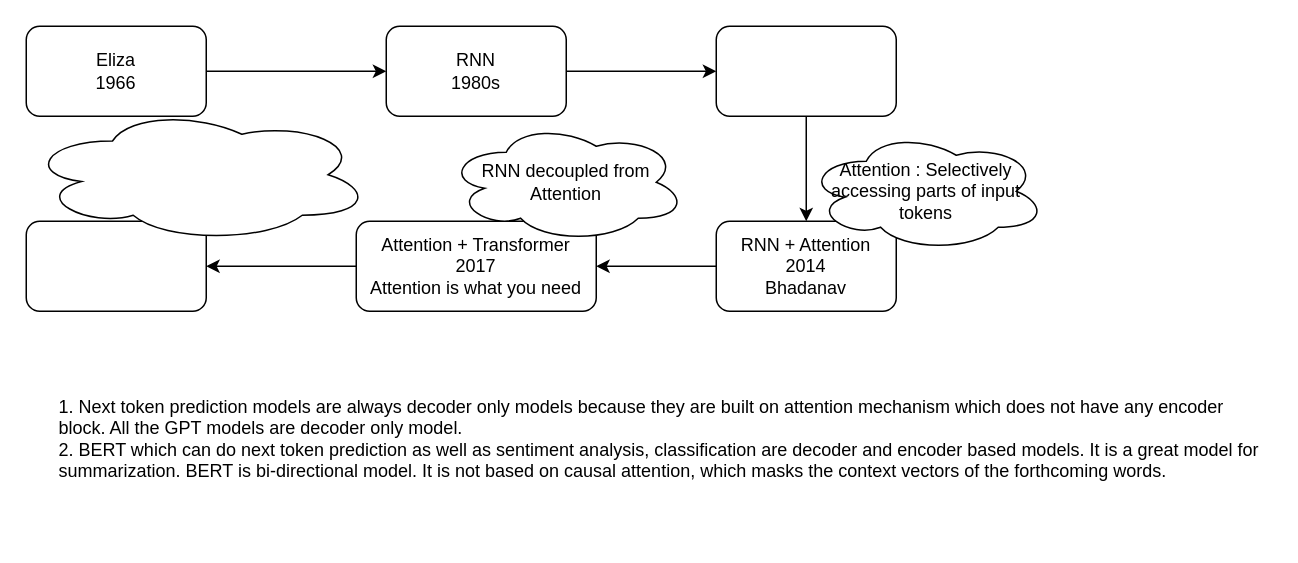
Some shapes in this 1298 by 563 pixel diagram are drawn without their labels. The shapes that lost their labels are listed below. From the top down, each one's box as (x1, y1, x2, y2) in pixels, then its label:
(715, 25, 896, 116): LSTM 1997
(25, 106, 371, 242): Only decoder. Encoder removed. BERT has encoder and decoder.
(25, 220, 206, 311): Attention + GPT 2 2018
